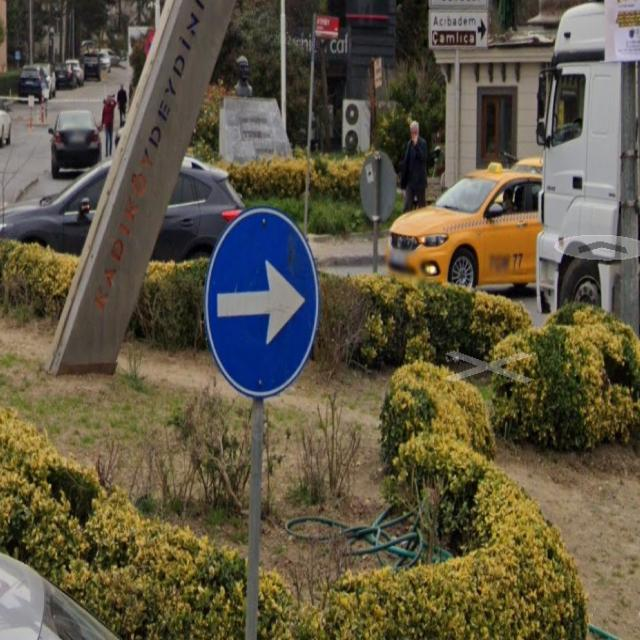Turn Right: (205, 208, 323, 403)
